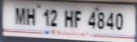character: (25, 7, 35, 27), (105, 12, 115, 29), (96, 10, 104, 30), (87, 10, 95, 29)
